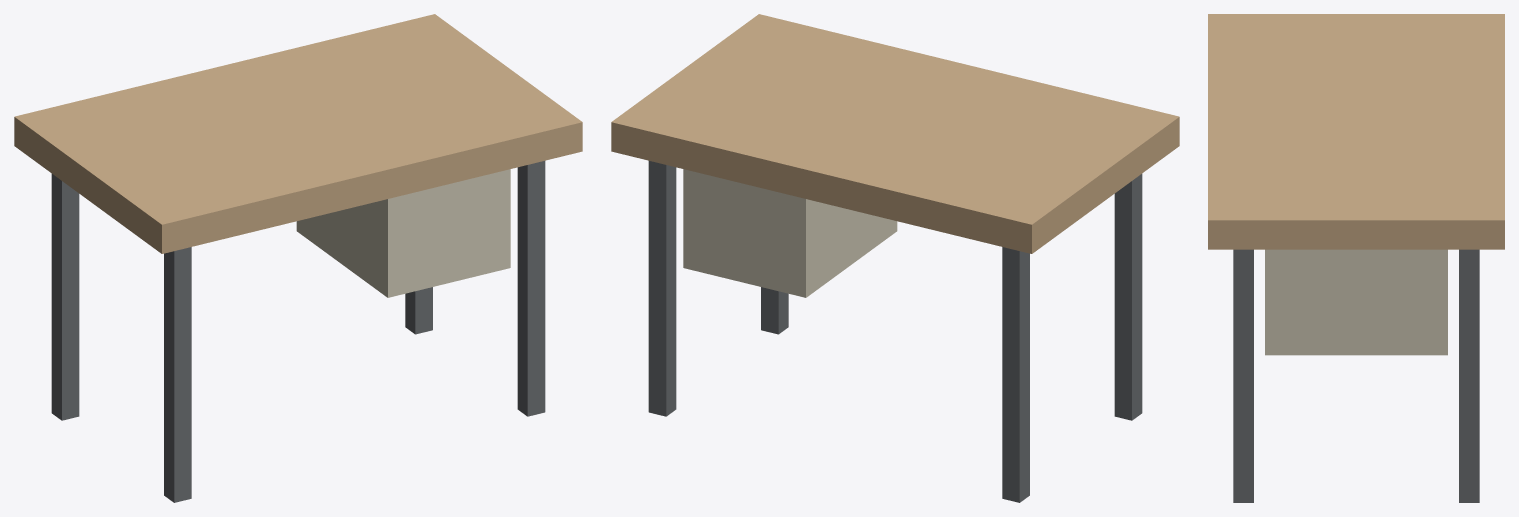
The model's file is desk_01.glb.
The picture shows the model from 3 angles, left to right: view 1: azimuth 30°, elevation 25°; view 2: azimuth 150°, elevation 25°; view 3: azimuth 270°, elevation 25°; orthographic projection.
Visible parts, largest first — view 1: top, drawer, leg0.5040.2774, leg-0.5040.2774, leg-0.504-0.2774, leg0.504-0.2774; view 2: top, drawer, leg0.504-0.2774, leg-0.504-0.2774, leg-0.5040.2774, leg0.5040.2774; view 3: top, drawer, leg0.504-0.2774, leg0.5040.2774.
Part boxes in pixels (x1=…): top: x1=14, y1=14, x2=582, y2=253; drawer: x1=296, y1=169, x2=510, y2=297; leg0.5040.2774: x1=517, y1=161, x2=545, y2=416; leg-0.5040.2774: x1=164, y1=247, x2=191, y2=502; leg-0.504-0.2774: x1=51, y1=174, x2=79, y2=420; leg0.504-0.2774: x1=405, y1=287, x2=432, y2=334; top: x1=611, y1=14, x2=1179, y2=253; drawer: x1=683, y1=169, x2=897, y2=297; leg0.504-0.2774: x1=648, y1=161, x2=676, y2=416; leg-0.504-0.2774: x1=1002, y1=247, x2=1029, y2=502; leg-0.5040.2774: x1=1114, y1=174, x2=1142, y2=420; leg0.5040.2774: x1=761, y1=287, x2=788, y2=334; top: x1=1208, y1=14, x2=1504, y2=249; drawer: x1=1265, y1=249, x2=1447, y2=355; leg0.504-0.2774: x1=1459, y1=249, x2=1479, y2=502; leg0.5040.2774: x1=1233, y1=249, x2=1253, y2=502.
Size of the model in its own units: 1.2 by 0.8 by 0.73.
